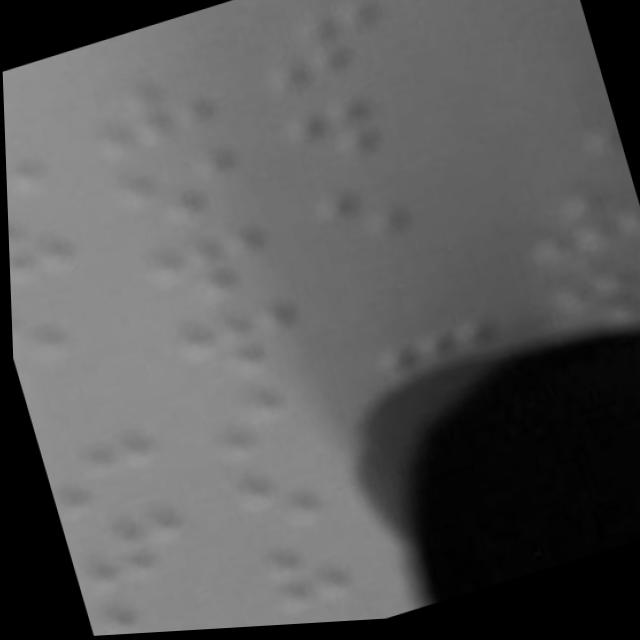braiile: (301, 150, 478, 270), (276, 65, 454, 184), (154, 280, 322, 403), (128, 204, 296, 324), (101, 125, 265, 247), (212, 437, 384, 552), (239, 514, 409, 630), (74, 52, 240, 168), (246, 0, 425, 106), (190, 364, 350, 472), (495, 181, 640, 300)
